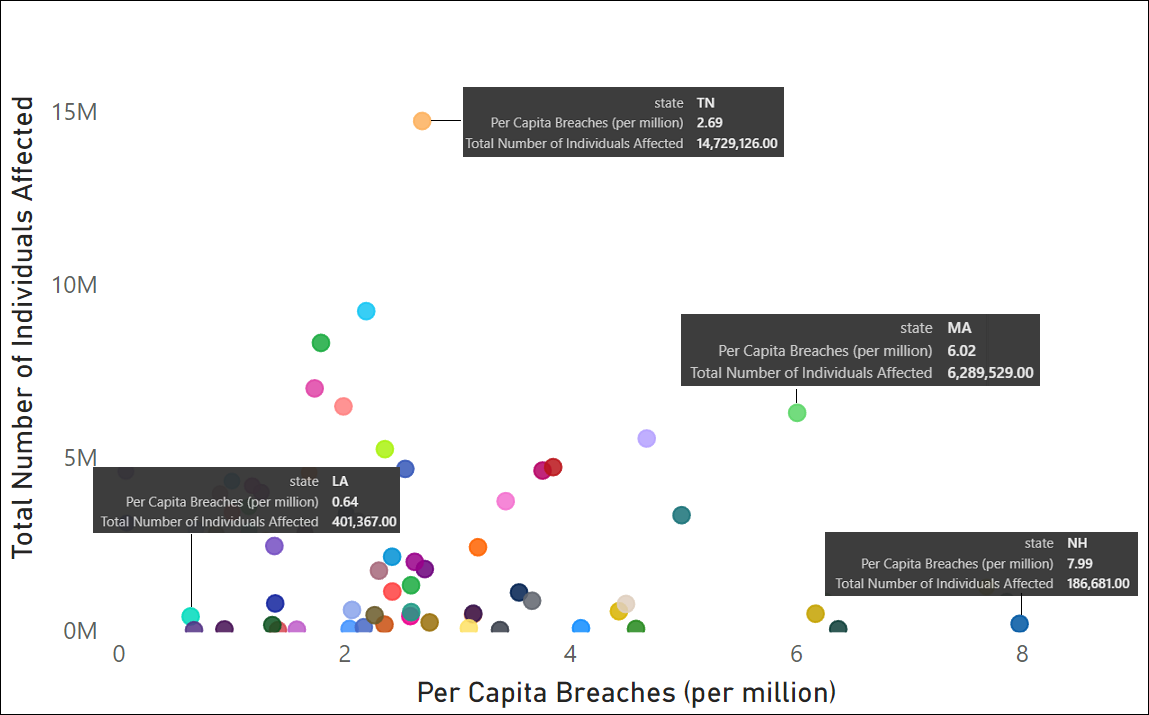

Layout of this report page (visuals, bound fields, positions):
{"tool":"powerbi","page":{"name":"PerCapita_x_TotalIndivAffected","canvas":[1280,720],"ordinal":3},"visuals":[{"type":"scatterChart","fields":{"Y":["Sum(breach_report3.Sum_Indiv_Affected)"],"Series":["breach_report2.state"],"X":["statepops.Breaches_per_million"]},"box":[0,0,1279.6,720],"z":0}]}

Visuals, with their boxes on the page's 1280x720 design canvas (x1, y1, x2, y2). These are canvas units, not pixel positions in the 1149x715 screenshot, which may show the page scaled, cropped or inside an application window:
scatterChart - Sum(breach_report3.Sum_Indiv_Affected) x breach_report2.state: 0, 0, 1280, 720
